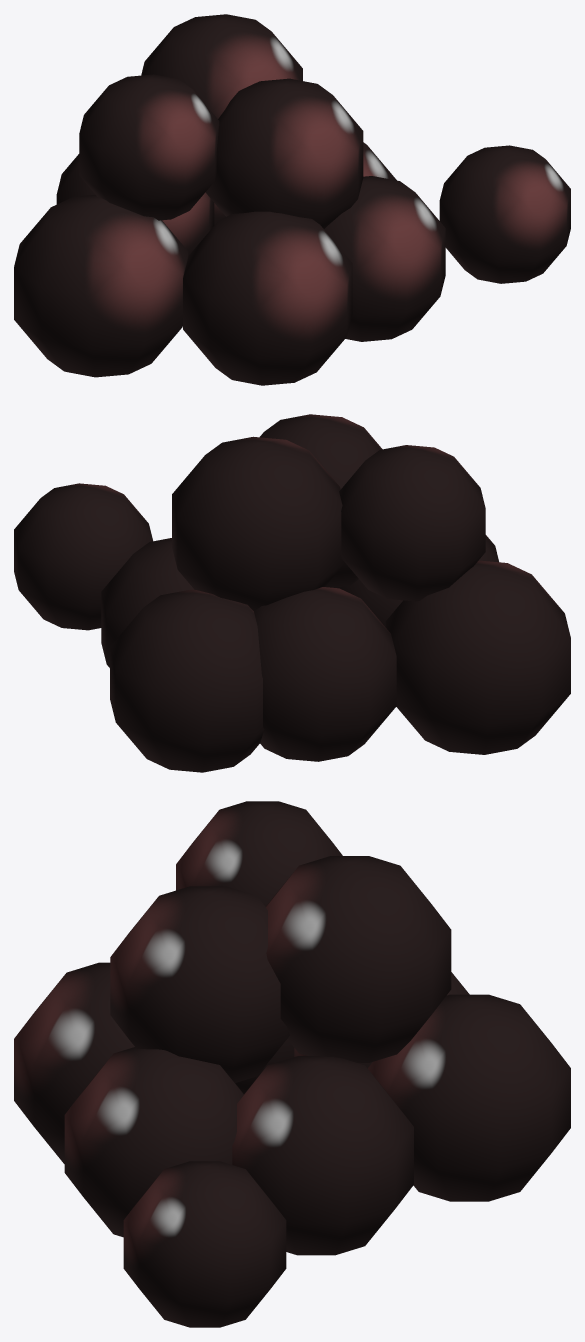
The model's file is Tapioca pearls.fbx.
The picture shows the model from 3 angles, top to bottom: view 1: azimuth 30°, elevation 25°; view 2: azimuth 150°, elevation 25°; view 3: azimuth 270°, elevation 25°; orthographic projection. The views are drawn at different scales.
Visible parts, largest first — view 1: Pearls; view 2: Pearls; view 3: Pearls.
Boxes of the visible parts, x1,y1,x2,y2 form: Pearls: (14, 14, 570, 385); Pearls: (14, 414, 570, 772); Pearls: (14, 801, 570, 1327).
Size of the model in its own units: 0.8411 by 0.4327 by 0.6473.
